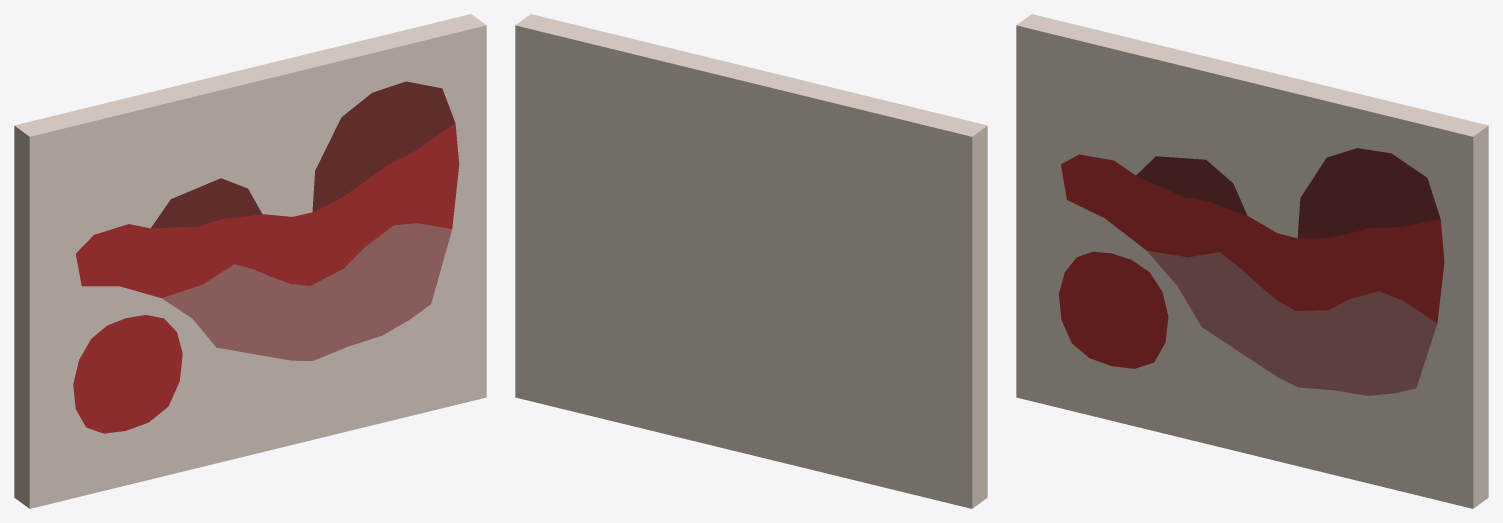
File: Picture_3.fbx
3 renders of one model, left to right at view 1: azimuth 30°, elevation 25°; view 2: azimuth 150°, elevation 25°; view 3: azimuth 330°, elevation 25°, orthographic.
Parts seen in each view (by area): view 1: Picture_3; view 2: Picture_3; view 3: Picture_3.
Part boxes in pixels (x1=…): Picture_3: x1=14, y1=14, x2=486, y2=508; Picture_3: x1=515, y1=14, x2=987, y2=508; Picture_3: x1=1016, y1=14, x2=1488, y2=508.
Size of the model in its own units: 132 by 8.11 by 103.
